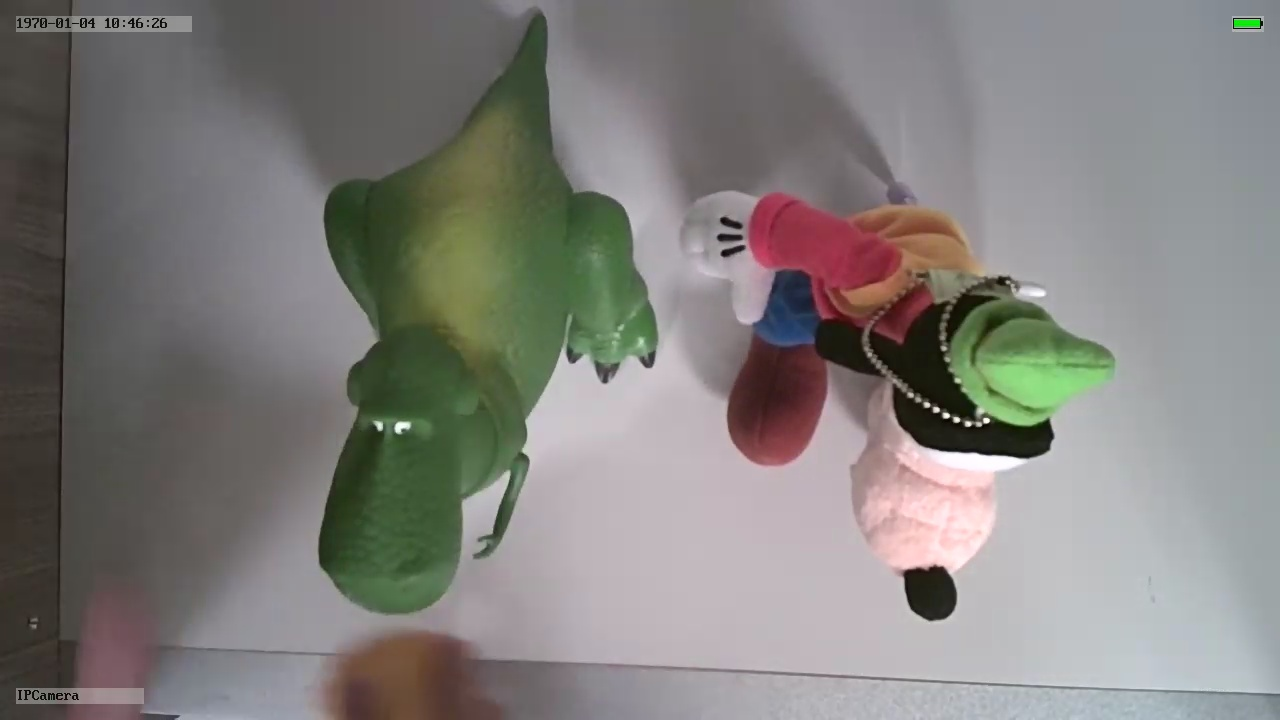goofy: (672, 185, 1119, 623)
rex: (319, 70, 660, 617)
